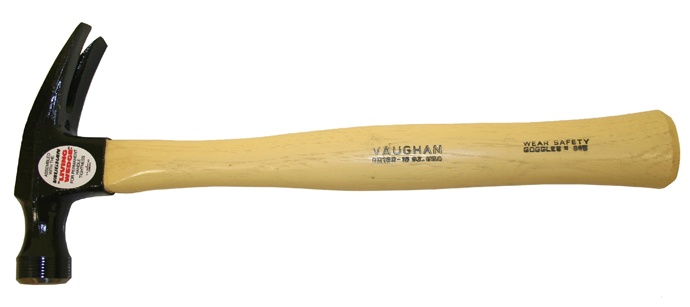hammer: (9, 17, 684, 274)
